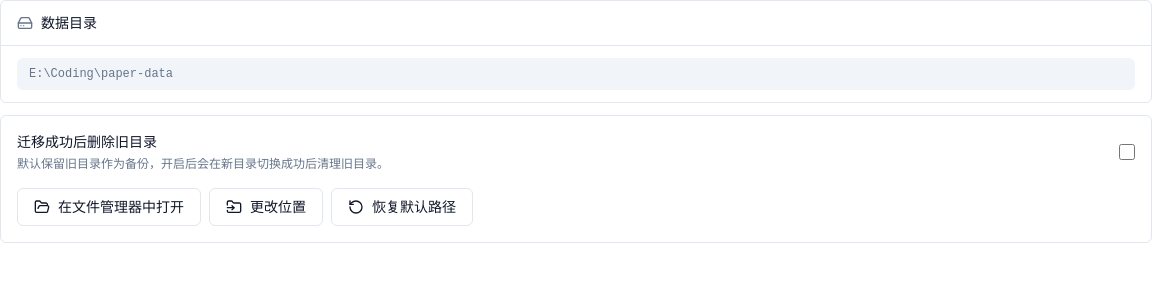
Test: DataDirSection › shows a localized error when data directory relocation fails
This screenshot has width=1152, height=304.
Click the button "更改位置": (266, 207) [209, 188, 323, 226]
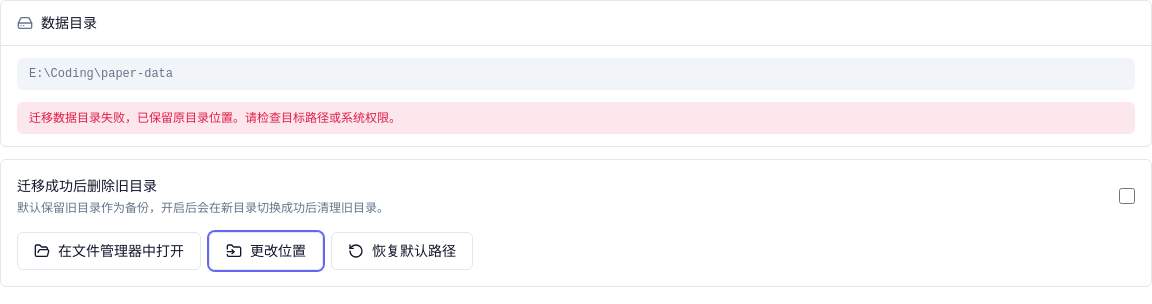
expect the message shows "迁移数据目录失败": met, box [29, 110, 401, 125]
